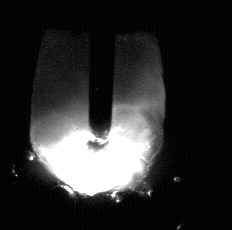arame: (88, 0, 113, 139)
poca: (30, 0, 165, 230)
